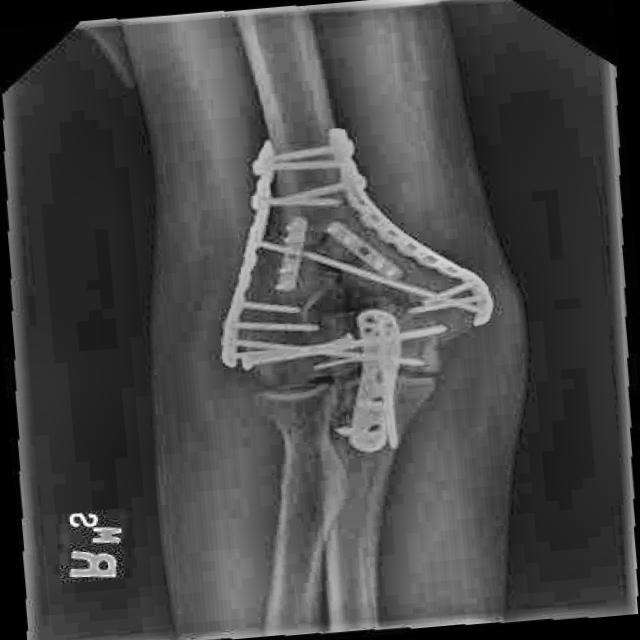elbow positive: (286, 210, 413, 347)
